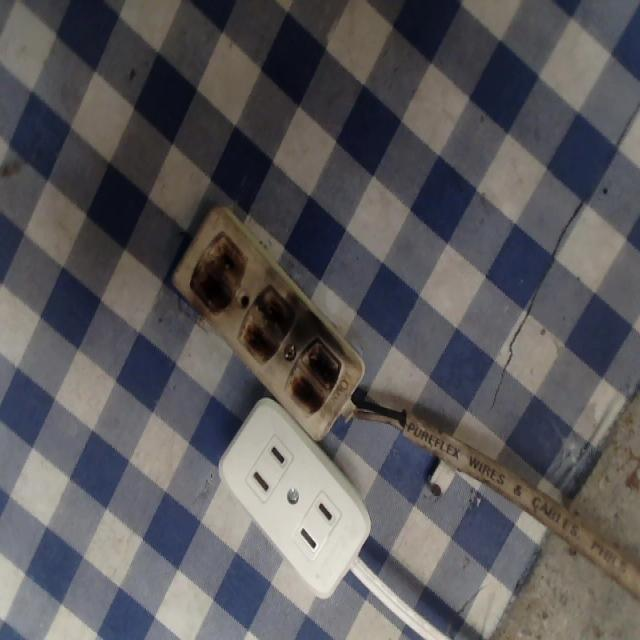-: (282, 330, 344, 418), (184, 231, 245, 313), (234, 284, 294, 363)
